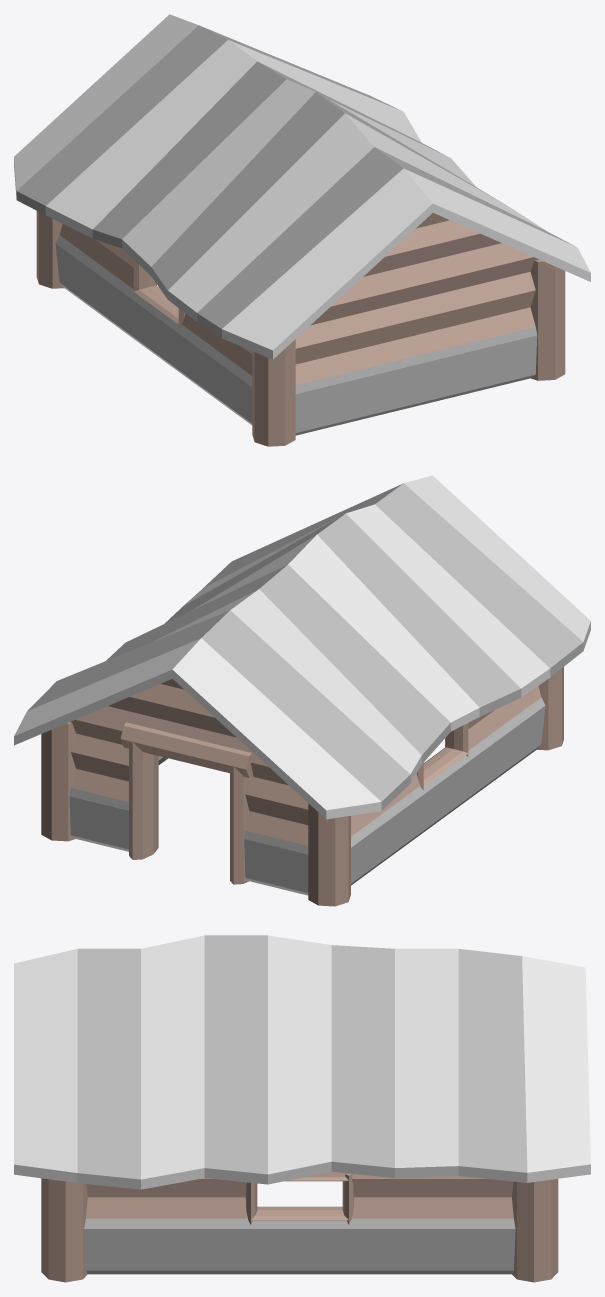
The model's file is Cabin.fbx.
3 renders of one model, top to bottom at view 1: azimuth 30°, elevation 25°; view 2: azimuth 150°, elevation 25°; view 3: azimuth 270°, elevation 25°, orthographic. The views are drawn at different scales.
Visible parts, largest first — view 1: CabinRoof, CabinMain, CabinStone; view 2: CabinRoof, CabinMain, CabinStone; view 3: CabinRoof, CabinStone, CabinMain.
Boxes of the visible parts, x1,y1,x2,y2 form: CabinRoof: (14, 14, 590, 359); CabinMain: (36, 211, 565, 446); CabinStone: (55, 235, 537, 435); CabinRoof: (14, 475, 590, 819); CabinMain: (41, 667, 563, 906); CabinStone: (69, 697, 545, 895); CabinRoof: (14, 935, 590, 1189); CabinStone: (84, 1218, 515, 1274); CabinMain: (41, 1171, 558, 1282).
Size of the model in its own units: 9.03 by 7.02 by 4.58.
